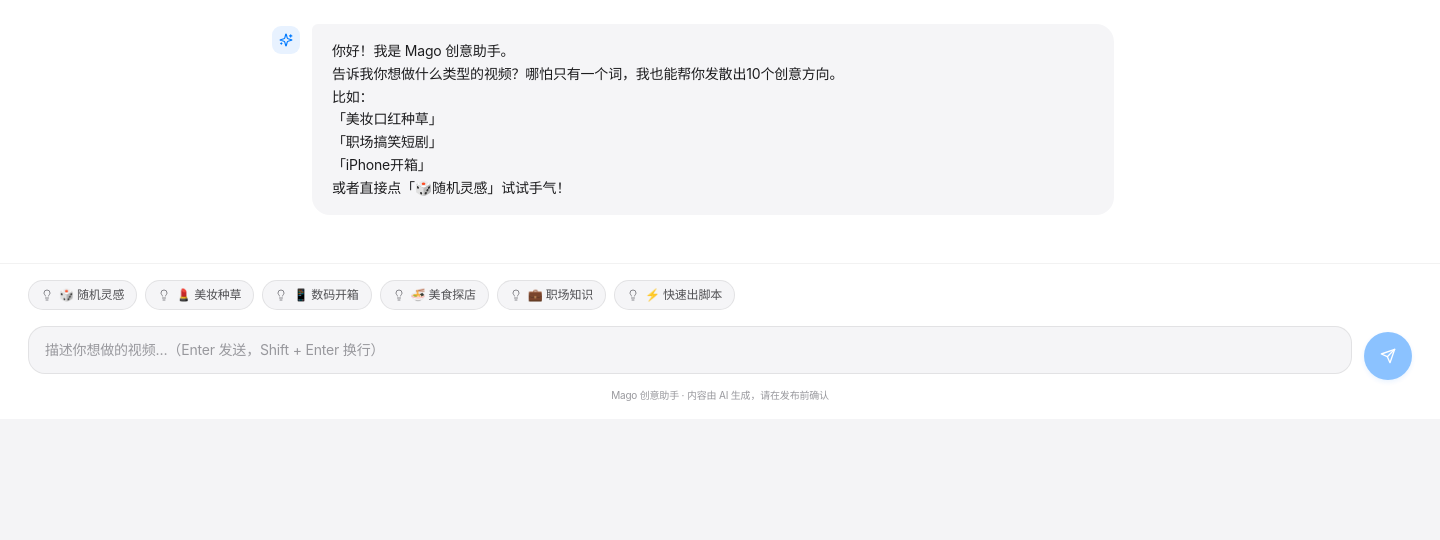
Test: ChatInterface HITL gate › streams token chunks into the assistant bubble
This screenshot has width=1440, height=540.
Type "口红测评" into the text box at {"x": 690, "y": 350}, box [28, 326, 1352, 374]
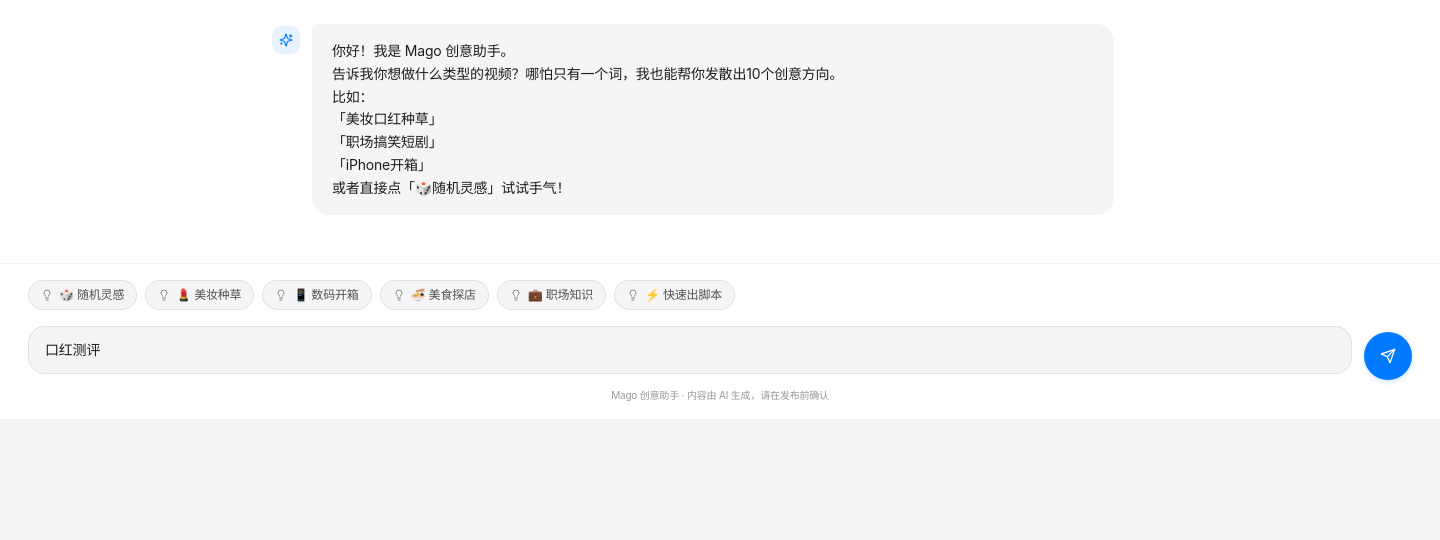
Click the button named "发送消息" at {"x": 1388, "y": 356}, box [1364, 332, 1412, 380]
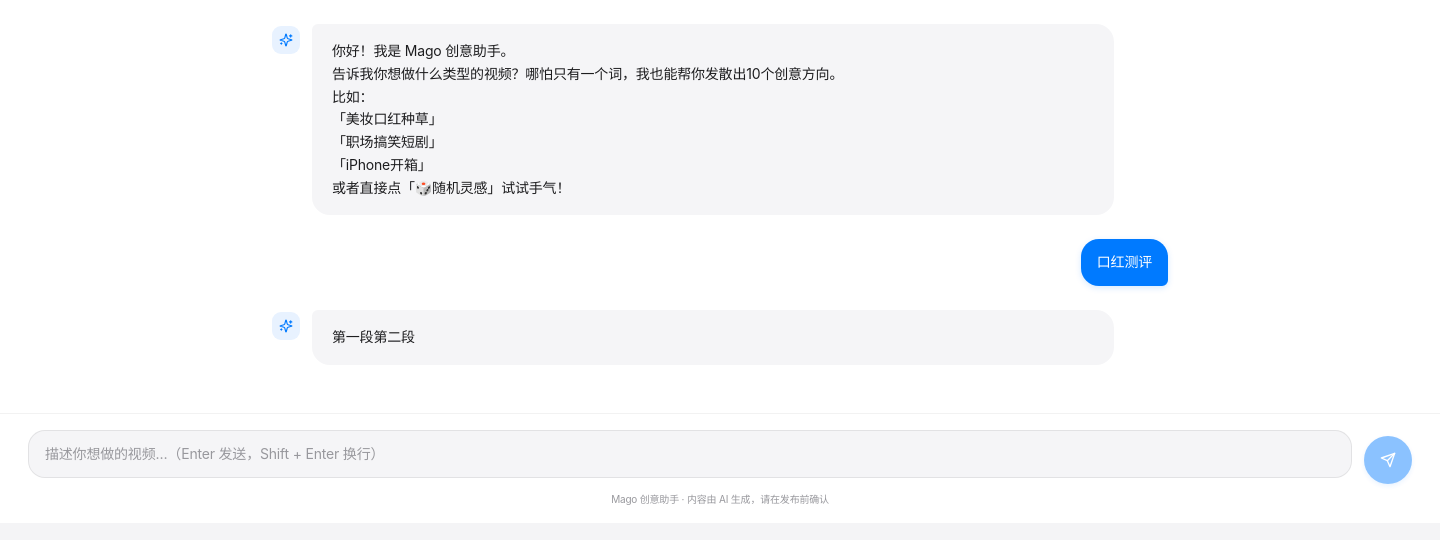
Result: the text "第一段第二段" is shown at [332, 328, 415, 345]
